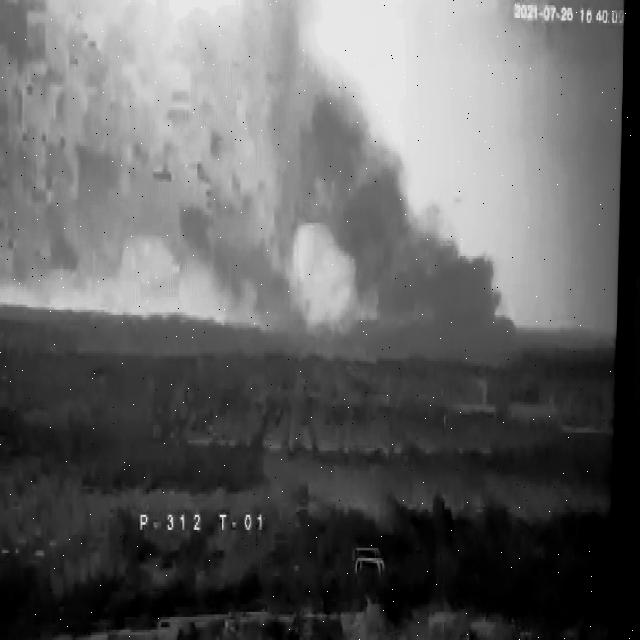asap: (3, 1, 526, 377)
